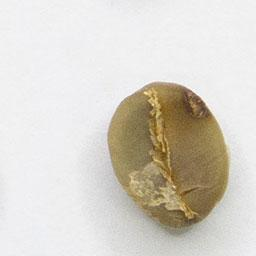premium: (101, 76, 233, 233)
